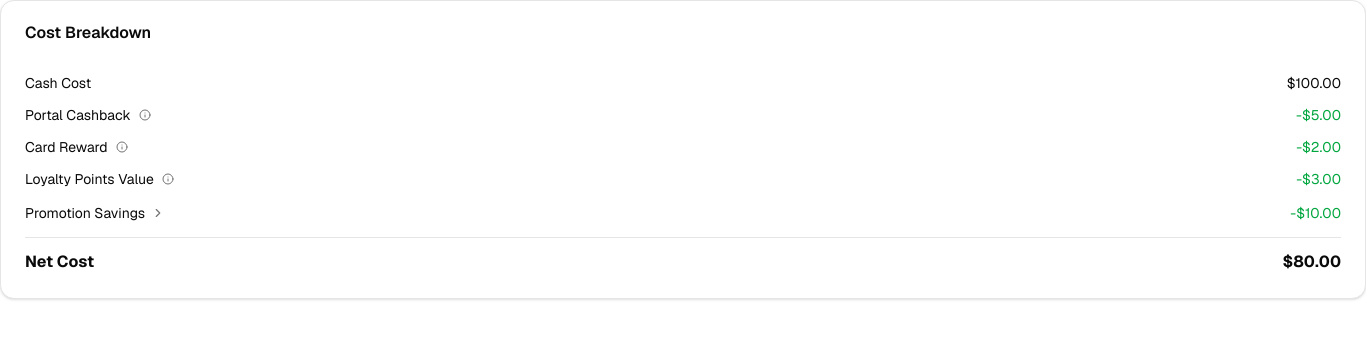
CostBreakdown › should show Orphaned badge when promotion isOrphaned=true
Click the button "Promotion Savings -$10.00" at (85, 213), box left=25, top=201, right=1341, bottom=225
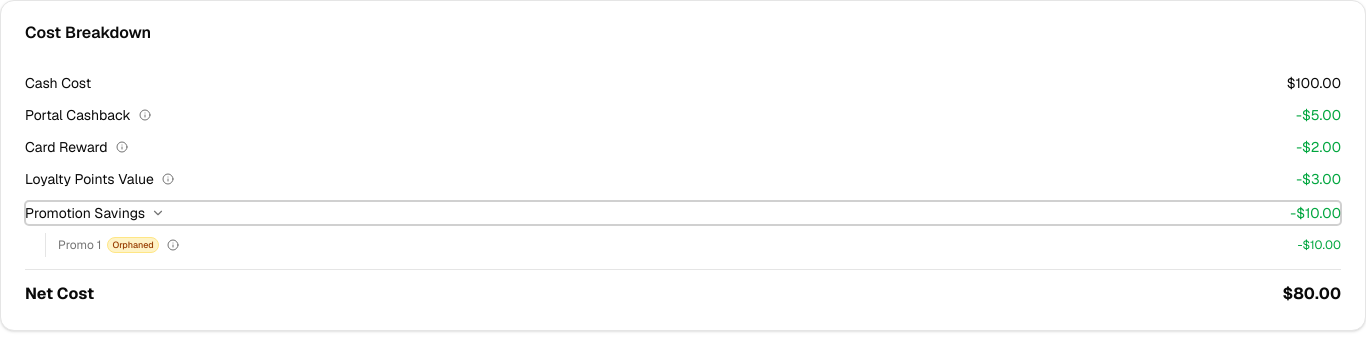
Check: the text "Orphaned" is shown, box left=107, top=237, right=159, bottom=253
